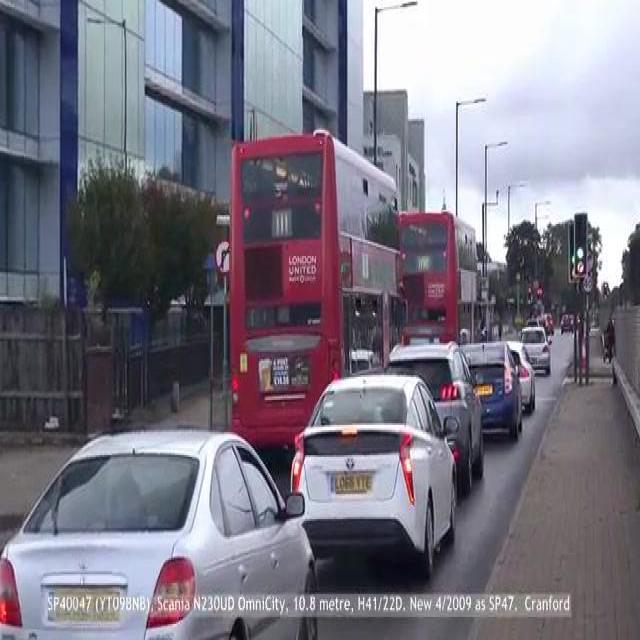motorcycle: (229, 128, 417, 476), (392, 201, 479, 348)
